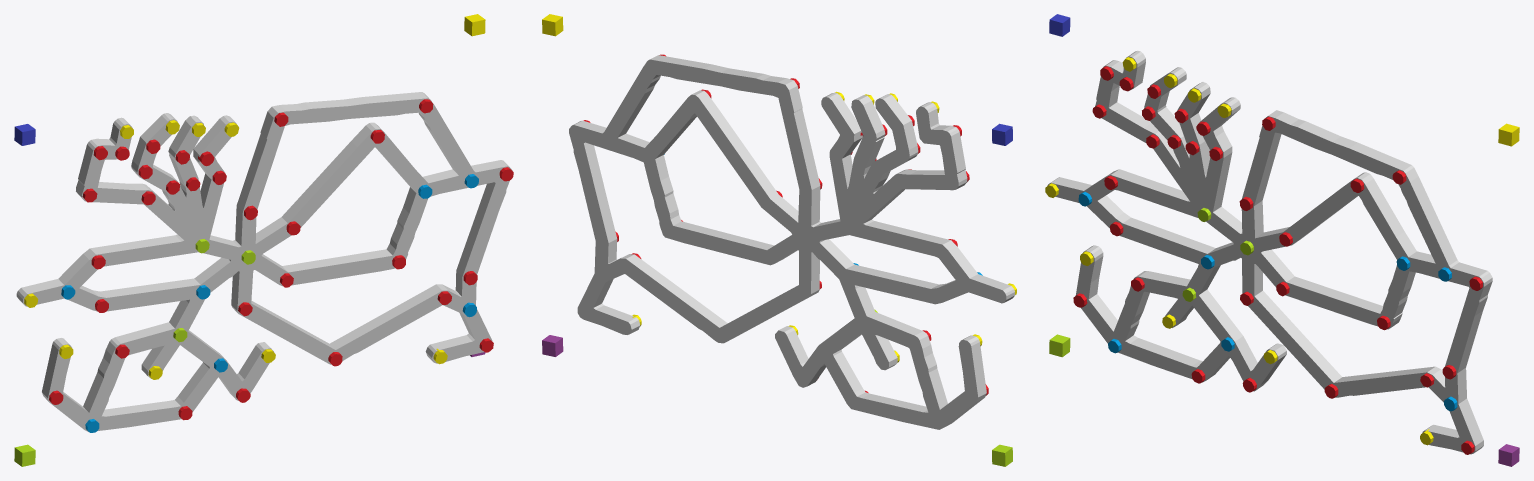
The model's file is demonetwork_from_screenshot_v2.obj.
The picture shows the model from 3 angles, left to right: view 1: azimuth 30°, elevation 25°; view 2: azimuth 150°, elevation 25°; view 3: azimuth 330°, elevation 25°; orthographic projection.
Parts seen in each view (by area): view 1: Object.1; view 2: Object.1; view 3: Object.1.
Boxes of the visible parts, x1=… form: Object.1: x1=16, y1=92, x2=512, y2=431; Object.1: x1=569, y1=55, x2=1014, y2=429; Object.1: x1=1047, y1=50, x2=1492, y2=454.
Size of the model in its own units: 207 by 143 by 29.11.
